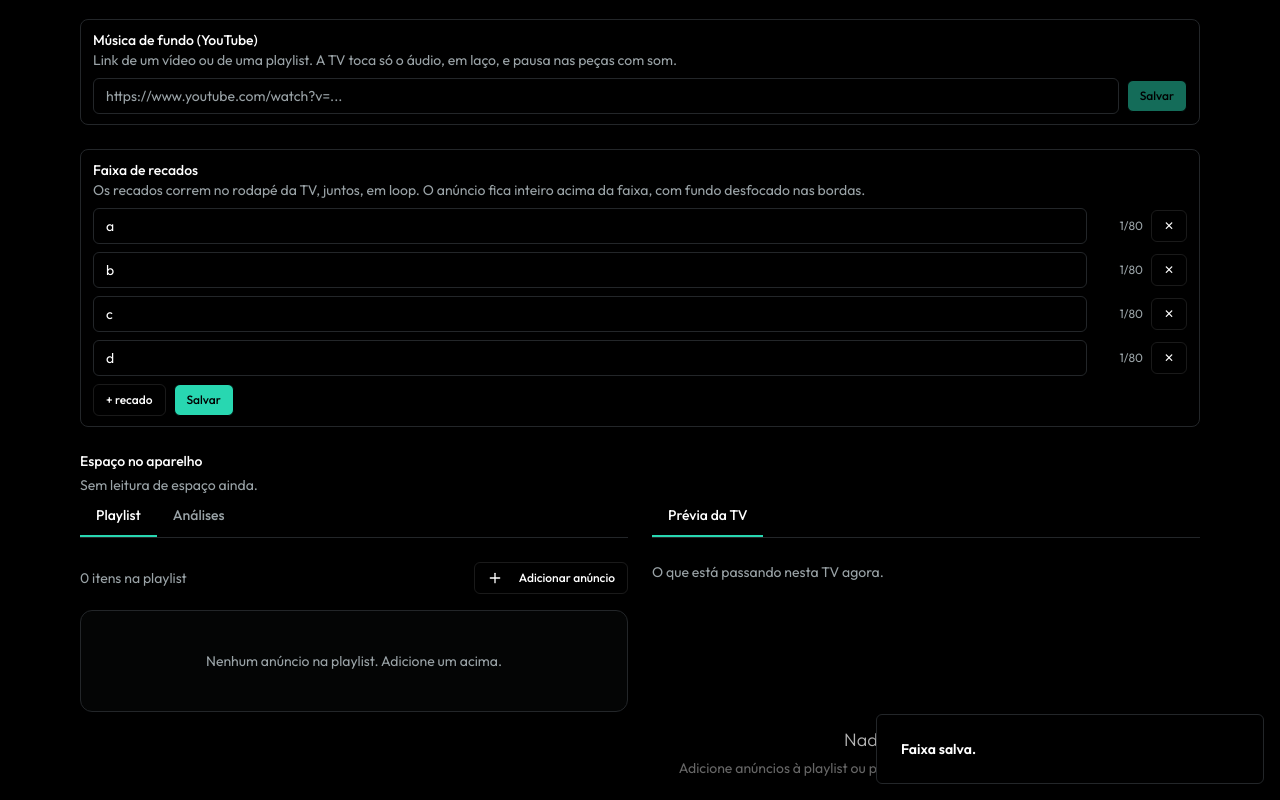
faixa de recados › mostra os recados gravados e "+ recado" some no quinto
(page scrolled)
Expected: the field named "Recado 4" holds "d", [93,340,1087,376]
Click the button "+ recado". click: [129, 400]
box: [93,384,166,416]
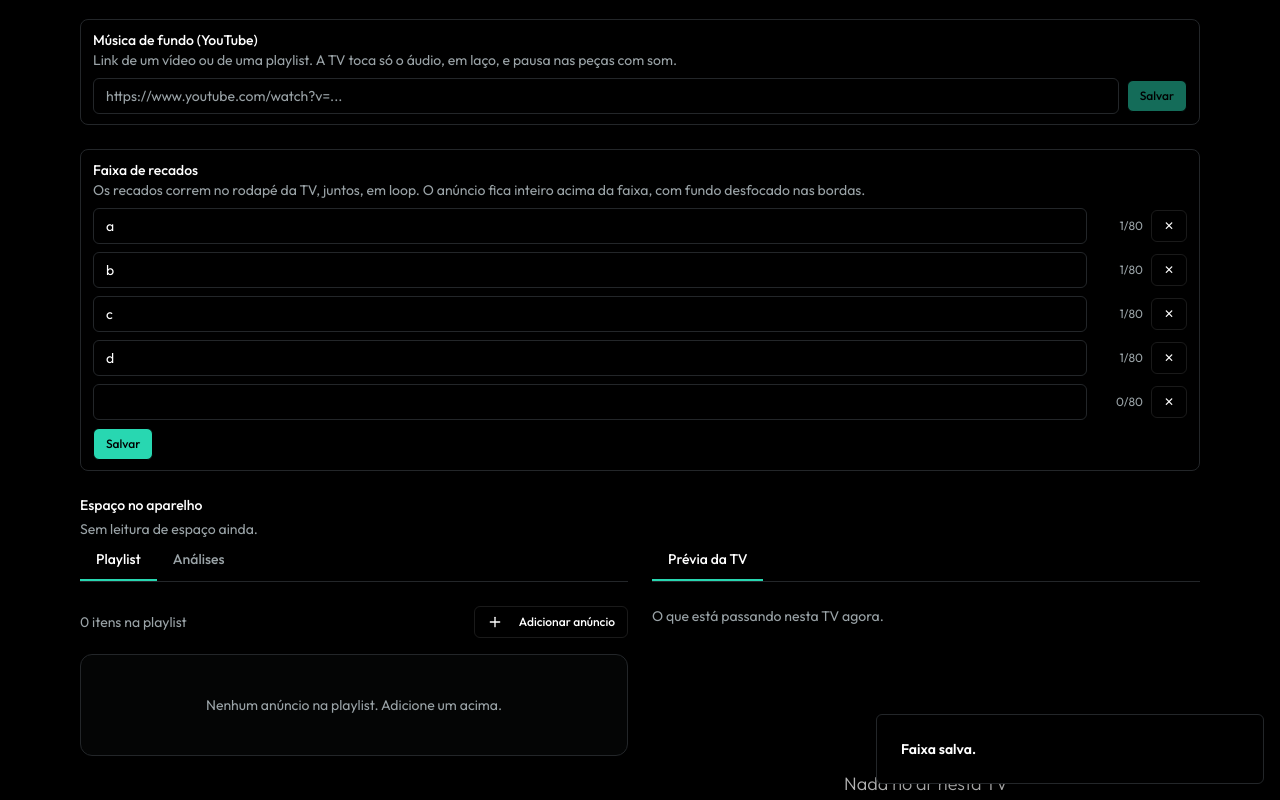
Now the button "+ recado" is gone
